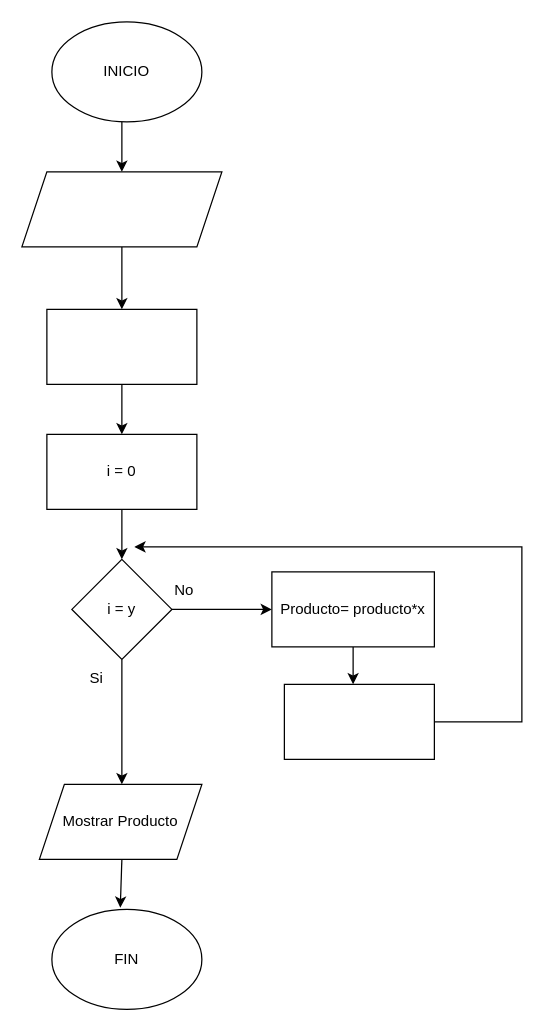
Image size: 554x1031. Some labels were removed from this diagram. The centre of each missing label's shape, as x and y in pixels:
i = i+1: the point at 358,721
Leer valores de x e y: the point at 121,209
Producto = 1: the point at 121,346
